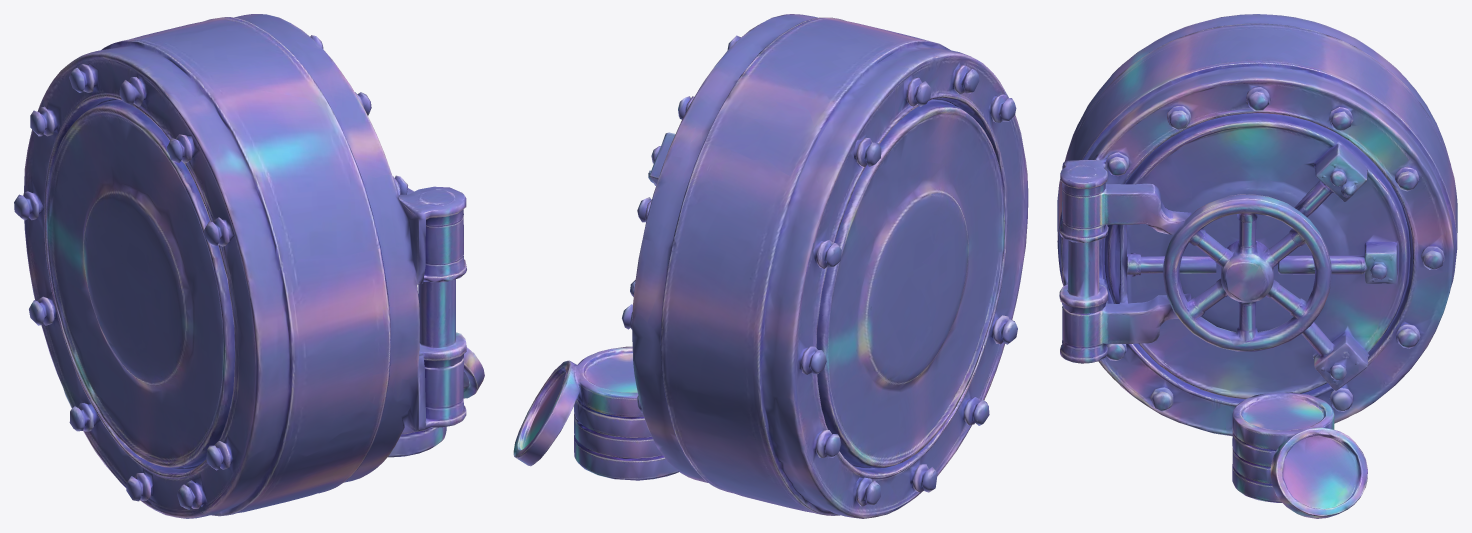
The model's file is vault.glb.
The picture shows the model from 3 angles, left to right: view 1: azimuth 30°, elevation 25°; view 2: azimuth 150°, elevation 25°; view 3: azimuth 270°, elevation 25°; orthographic projection. The views are drawn at different scales.
Parts seen in each view (by area): view 1: tripo_node_94325bcc-ef57-4932-b055-e0ef3a24dddf; view 2: tripo_node_94325bcc-ef57-4932-b055-e0ef3a24dddf; view 3: tripo_node_94325bcc-ef57-4932-b055-e0ef3a24dddf.
Part boxes in pixels (x1=…): tripo_node_94325bcc-ef57-4932-b055-e0ef3a24dddf: x1=14, y1=14, x2=484, y2=518; tripo_node_94325bcc-ef57-4932-b055-e0ef3a24dddf: x1=513, y1=14, x2=1028, y2=518; tripo_node_94325bcc-ef57-4932-b055-e0ef3a24dddf: x1=1057, y1=14, x2=1457, y2=518.
Size of the model in its own units: 0.8896 by 1 by 0.9803.
1 material, 1 textured.
